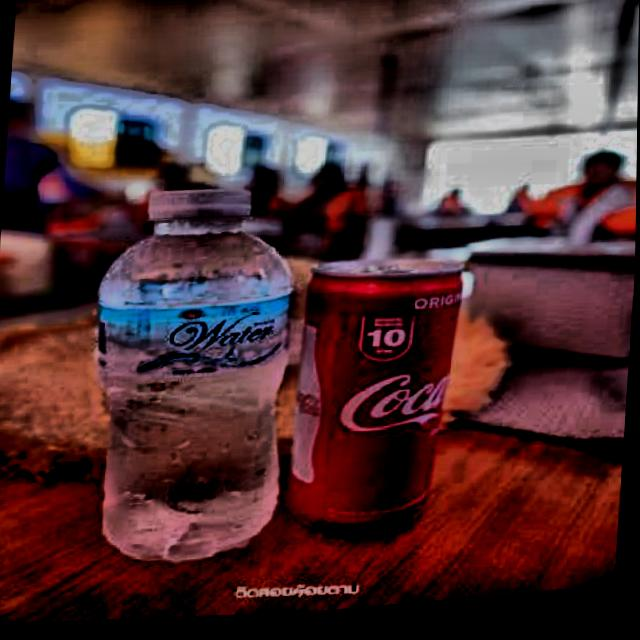Bottles: (79, 169, 311, 596)
